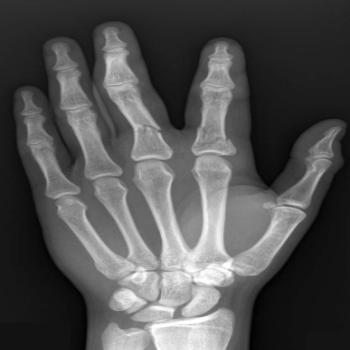Fracture: (191, 122, 242, 149), (124, 119, 171, 138)
